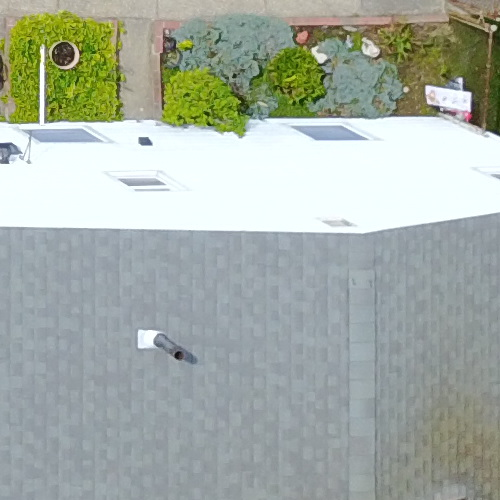flower pot: (43, 36, 84, 72)
